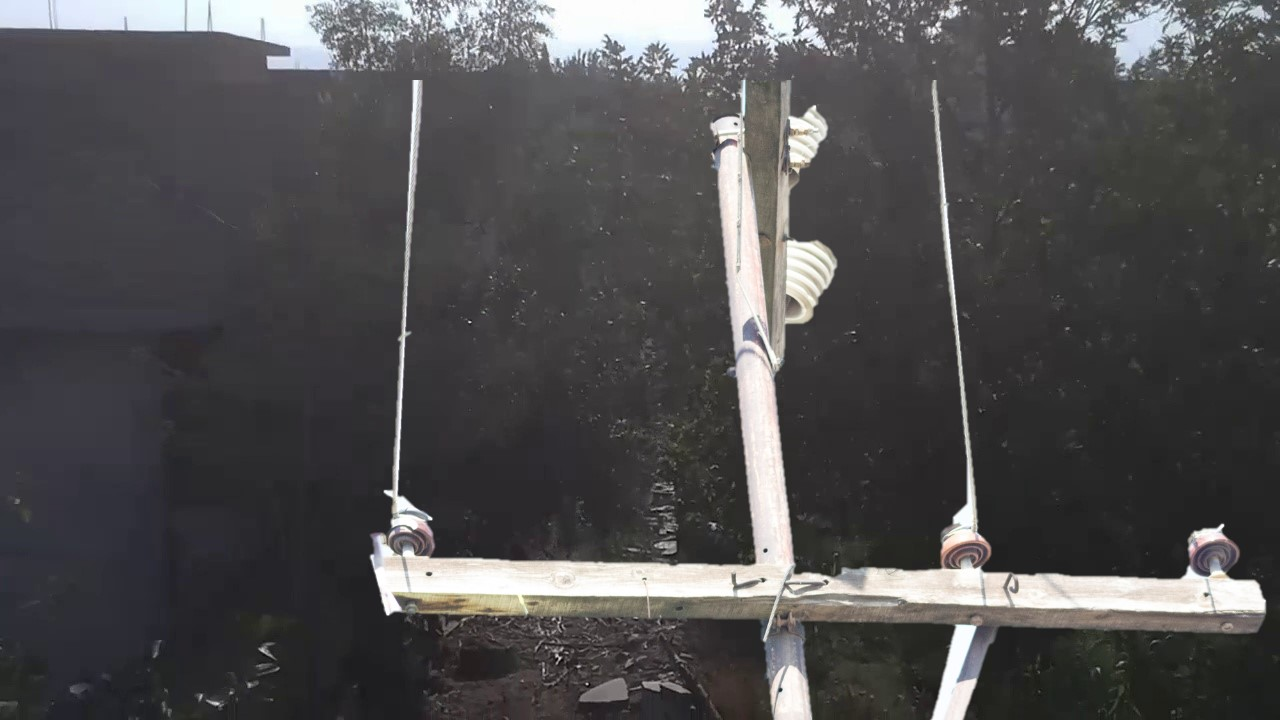defect_pin: (384, 504, 442, 560)
insulator_pin: (936, 513, 999, 572), (1186, 519, 1244, 575)
